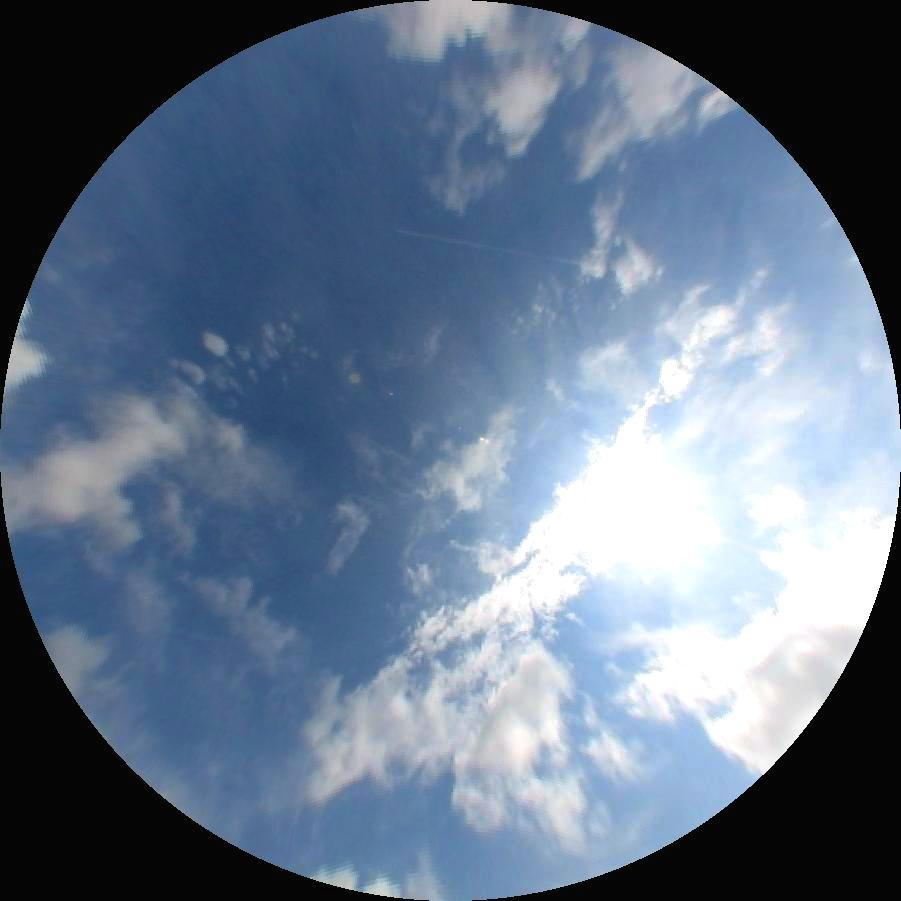contrail young: (394, 227, 580, 266)
sun: (579, 445, 696, 565)
